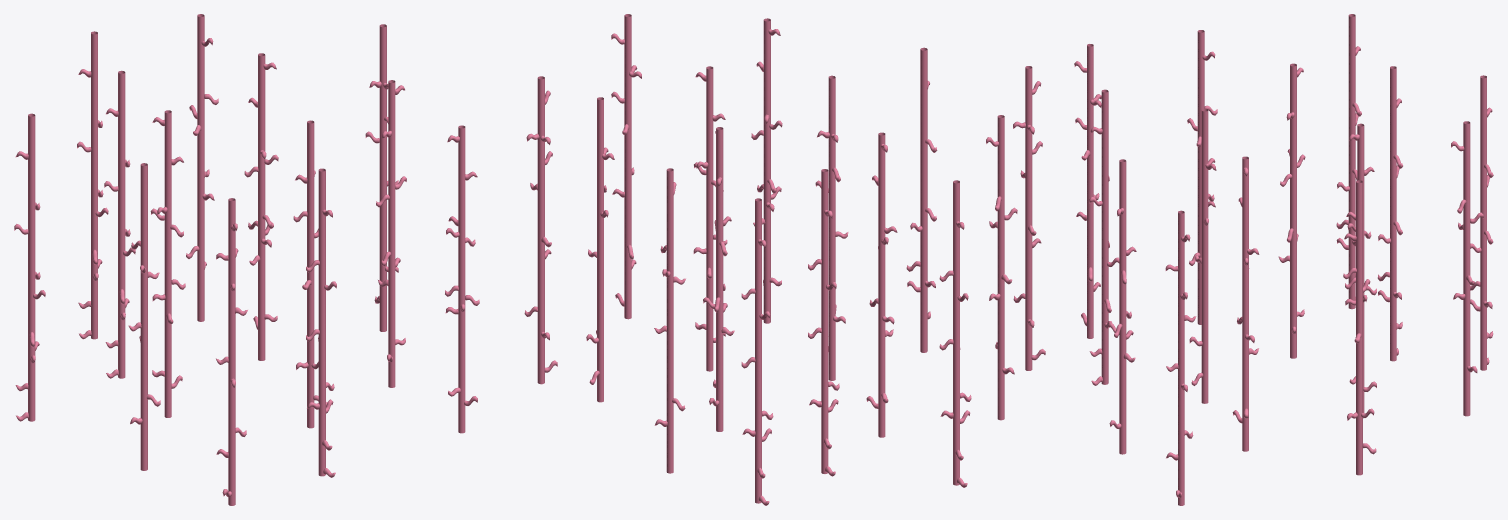
File: treesdenser.fbx
The picture shows the model from 3 angles, left to right: view 1: azimuth 30°, elevation 25°; view 2: azimuth 150°, elevation 25°; view 3: azimuth 270°, elevation 25°; orthographic projection. The views are drawn at different scales.
Visible parts, largest first — view 1: Tree 6, Tree 6.001, Tree 3.001, Tree 2.001, Tree 4.001, Tree 3, Tree 2.002, Tree 2, Tree 4, Tree 1, Tree 1.001, Tree 5 (+2 smaller); view 2: Tree 2, Tree 4, Tree 4.001, Tree 6, Tree 2.001, Tree 3, Tree 3.001, Tree 1.001, Tree 1, Tree 6.001, Tree 5, Tree 2.002 (+2 smaller); view 3: Tree 6, Tree 1, Tree 2.001, Tree 5, Tree 2, Tree 2.003, Tree 4, Tree 5.001, Tree 4.001, Tree 2.002, Tree 3.001, Tree 3 (+2 smaller).
Part boxes in pixels (x1,y1,x2,y2): Tree 6: (445,125,479,433); Tree 6.001: (244,53,278,360); Tree 3.001: (150,110,185,417); Tree 2.001: (306,168,336,477); Tree 4.001: (524,76,557,384); Tree 3: (376,80,406,387); Tree 2.002: (14,113,45,421); Tree 2: (104,70,135,378); Tree 4: (216,198,247,505); Tree 1: (186,14,218,321); Tree 1.001: (128,163,160,470); Tree 5: (293,120,327,428); Tree 2: (808,169,839,476); Tree 4: (1013,66,1045,370); Tree 4.001: (611,14,641,319); Tree 6: (751,18,782,323); Tree 2.001: (906,47,937,352); Tree 3: (693,66,727,371); Tree 3.001: (866,132,897,437); Tree 1.001: (986,115,1017,420); Tree 1: (654,168,685,473); Tree 6.001: (703,127,734,431); Tree 5: (815,75,848,380); Tree 2.002: (939,180,971,487); Tree 6: (1107,159,1136,454); Tree 1: (1451,121,1483,416); Tree 2.001: (1089,89,1119,385); Tree 5: (1189,108,1216,403); Tree 2: (1377,66,1402,361); Tree 2.003: (1470,75,1493,370); Tree 4: (1074,44,1101,338); Tree 5.001: (1343,180,1376,475); Tree 4.001: (1165,210,1196,505); Tree 2.002: (1336,14,1361,309); Tree 3.001: (1278,63,1305,358); Tree 3: (1232,156,1259,451).
Bounding box in the file's own units: 1700 × 1102 × 1432.
